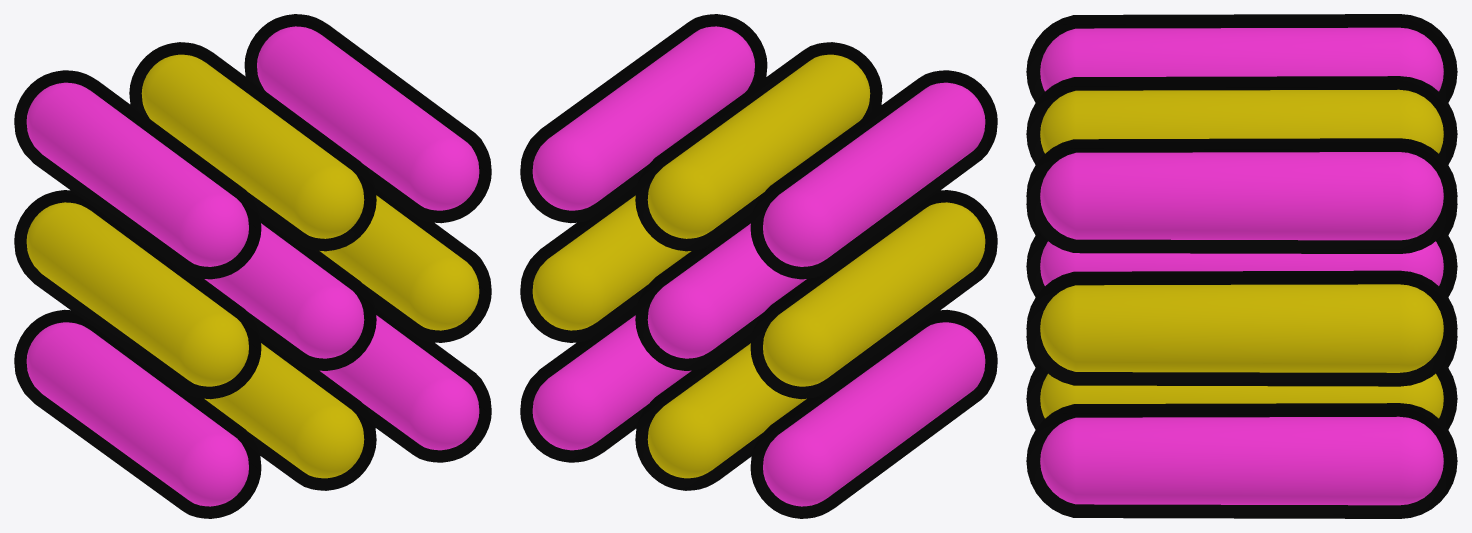
3 renders of one model, left to right at view 1: azimuth 30°, elevation 25°; view 2: azimuth 150°, elevation 25°; view 3: azimuth 270°, elevation 25°, orthographic. The views are drawn at different scales.
Parts seen in each view (by area): view 1: cube_1; view 2: cube_1; view 3: cube_1.
Part boxes in pixels (box(x1,y1,x2,y2)): cube_1: box(14, 14, 491, 518); cube_1: box(520, 14, 997, 518); cube_1: box(1026, 14, 1457, 518).
Bounding box in the file's own units: 4.93 × 4.91 × 5.19.
